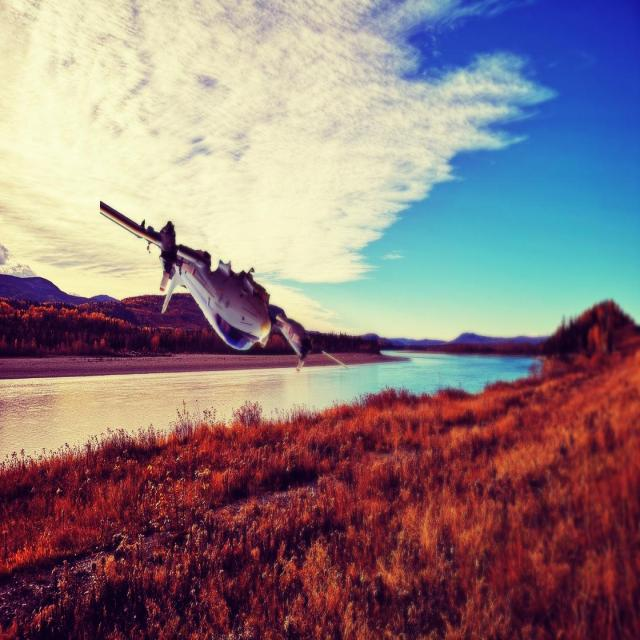airplane: (98, 199, 349, 372)
